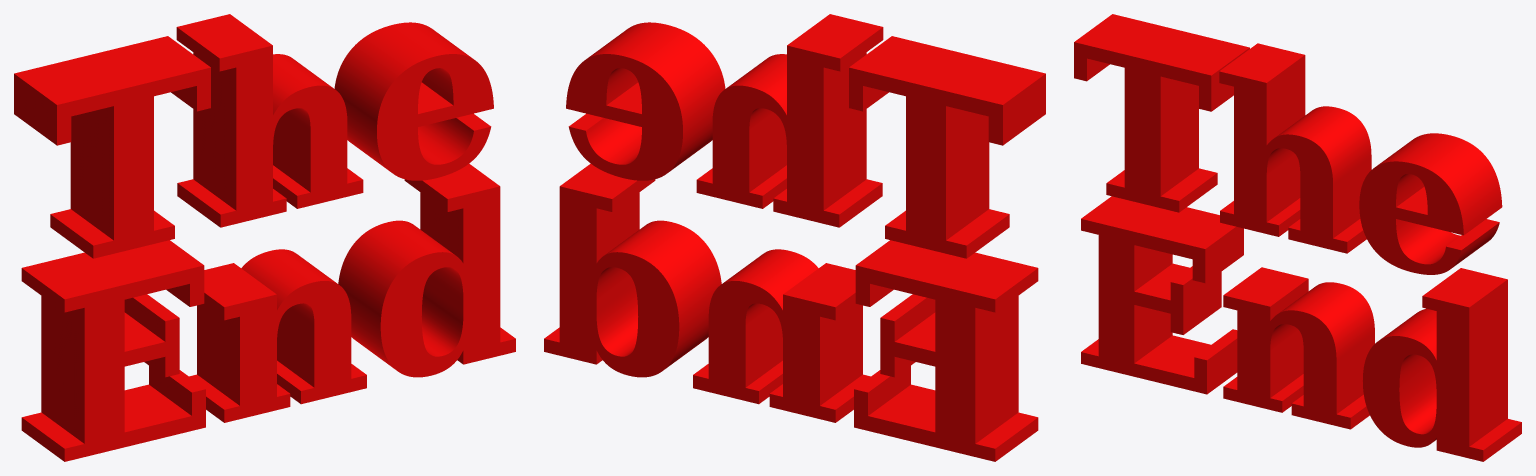
The model's file is TheEnd (1).fbx.
3 renders of one model, left to right at view 1: azimuth 30°, elevation 25°; view 2: azimuth 150°, elevation 25°; view 3: azimuth 330°, elevation 25°, orthographic. The views are drawn at different scales.
Visible parts, largest first — view 1: TheEnd; view 2: TheEnd; view 3: TheEnd.
Boxes of the visible parts, x1,y1,x2,y2 form: TheEnd: (14,14,515,461); TheEnd: (544,14,1045,461); TheEnd: (1074,14,1521,461).
Size of the model in its own units: 130 by 100 by 21.16.
